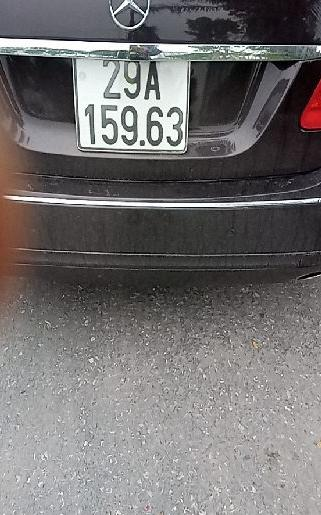Plate-iWeP: (73, 52, 193, 159)
